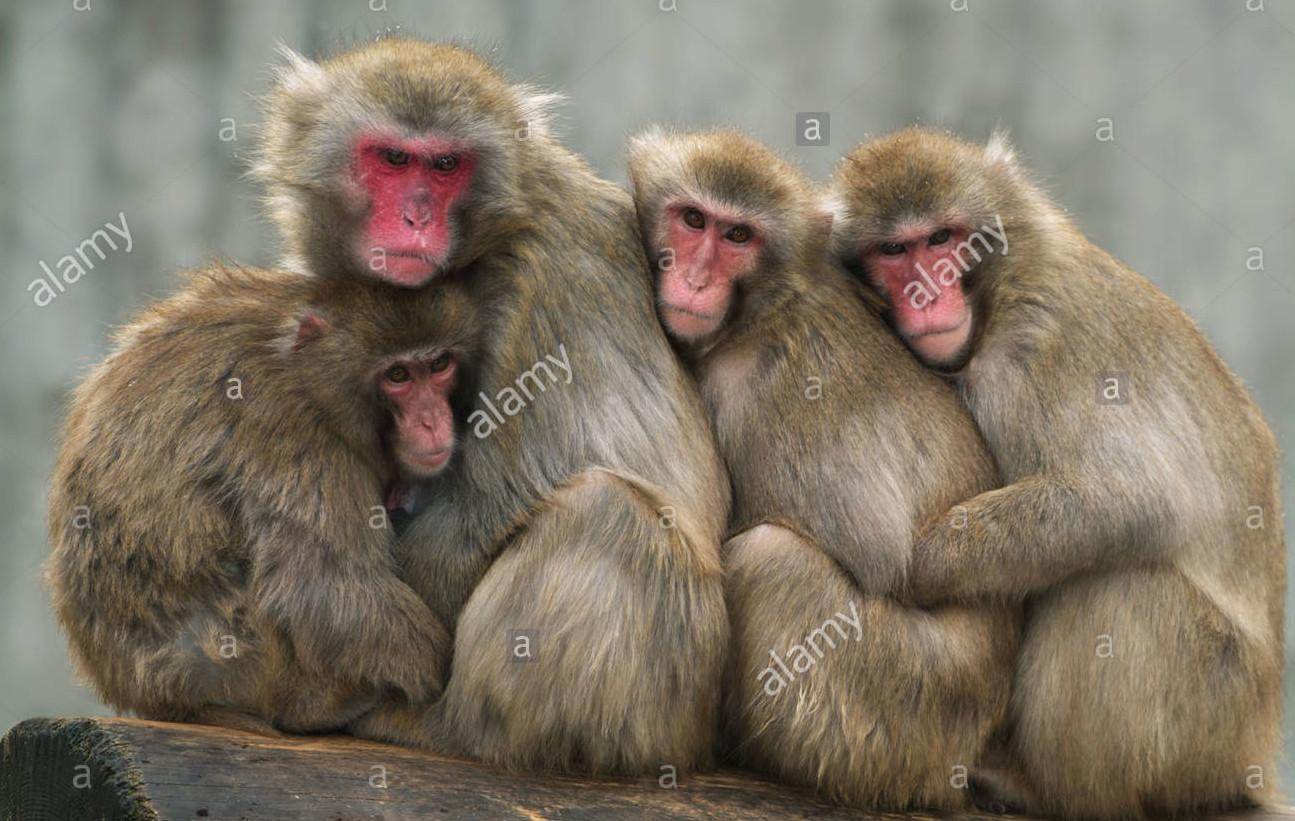monkey: (398, 112, 1282, 821), (42, 35, 737, 776)
